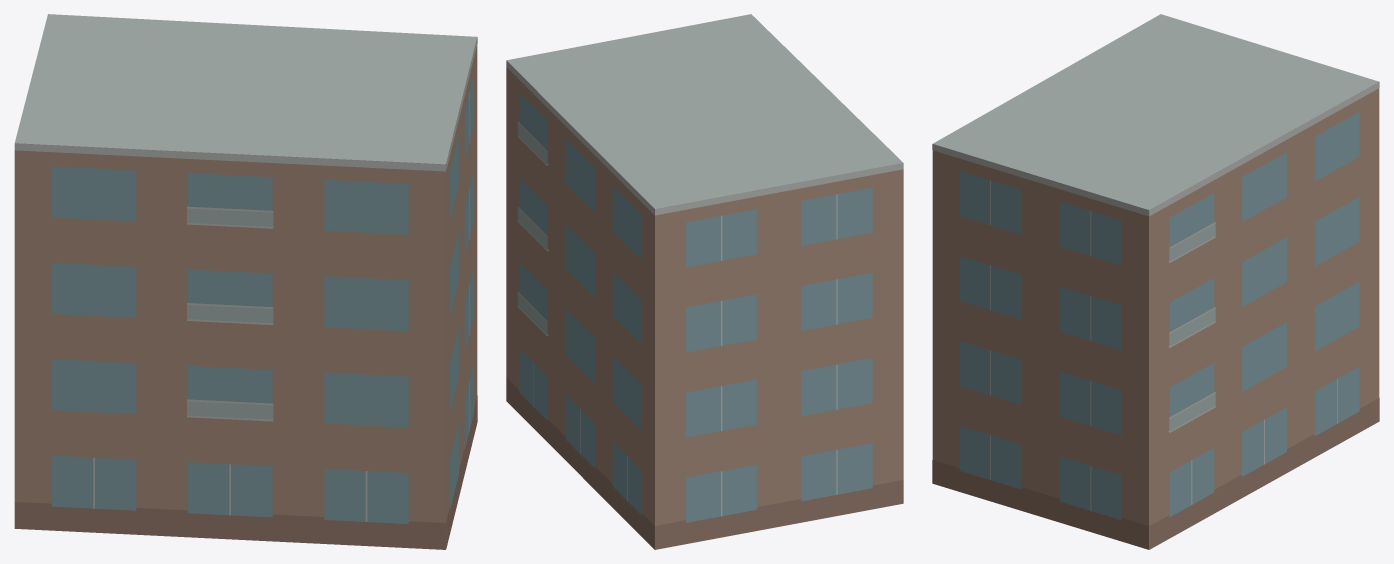
File: survey-upis-32632289.glb
3 renders of one model, left to right at view 1: azimuth 30°, elevation 25°; view 2: azimuth 150°, elevation 25°; view 3: azimuth 270°, elevation 25°, orthographic. The views are drawn at different scales.
Visible parts, largest first — view 1: survey-upis-32632289.tmp; view 2: survey-upis-32632289.tmp; view 3: survey-upis-32632289.tmp.
Boxes of the visible parts, left/top/right/bottom form: survey-upis-32632289.tmp: left=14, top=14, right=477, bottom=549; survey-upis-32632289.tmp: left=506, top=14, right=903, bottom=549; survey-upis-32632289.tmp: left=932, top=14, right=1379, bottom=549.
Bounding box in the file's own units: 16.23 × 13.1 × 15.63.
